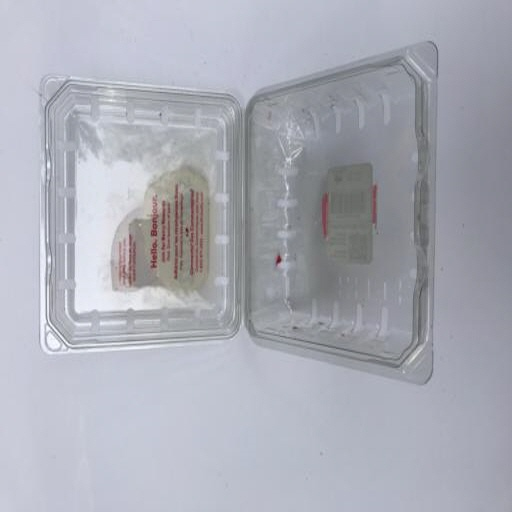Plastic_4: (39, 43, 434, 388)
